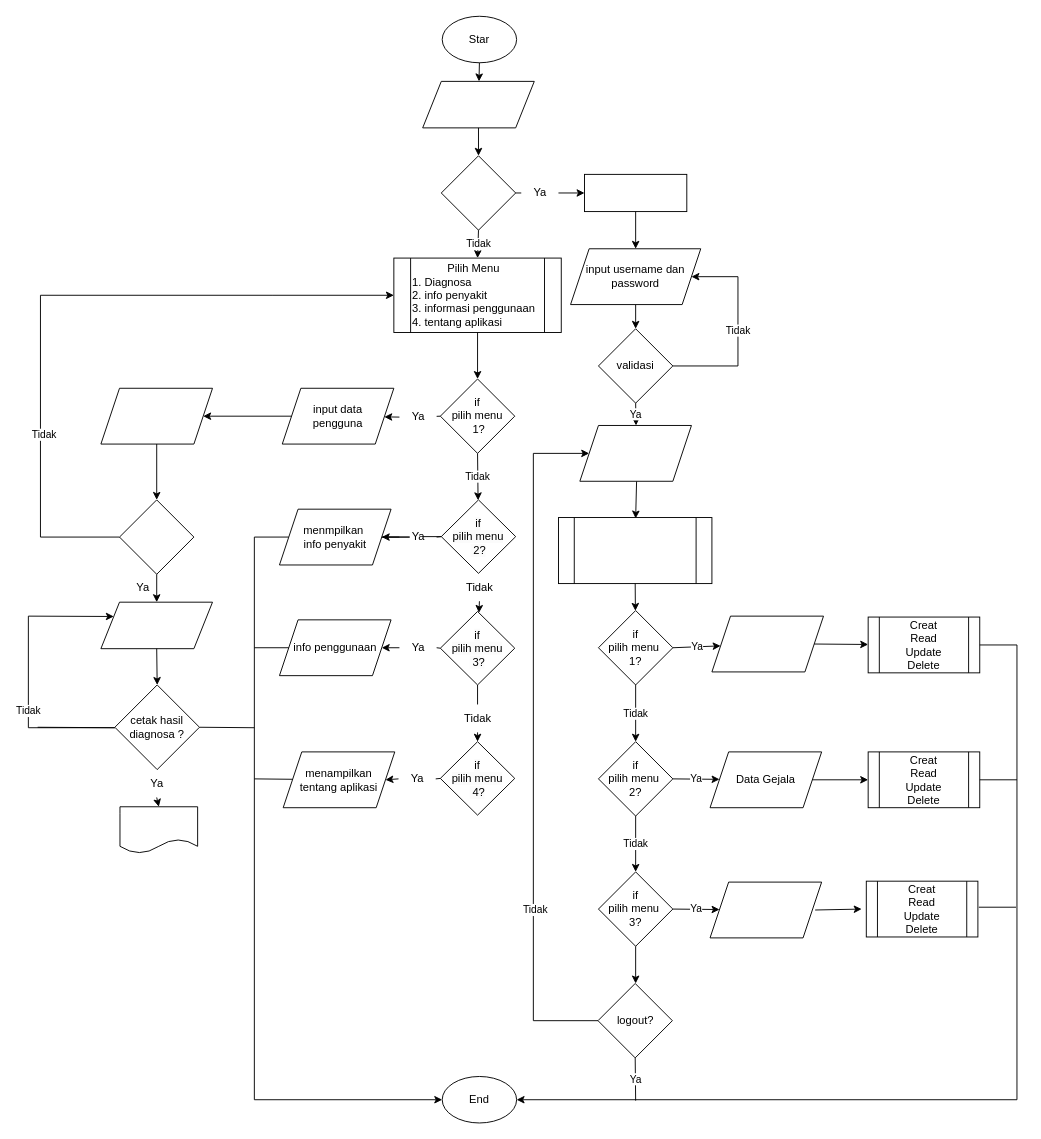
Some shapes in this 1041 by 1139 pixel diagram are drawn without their labels. The centre of each missing label's shape, as x and y in pixels:
"Dasboard admin" goes at pixel 635 453.
"Data penyakit" goes at pixel 767 643.
"Data rule/ aturan" goes at pixel 765 909.
"Dokumen" goes at pixel 158 829.
"halaman utama pengguna" goes at pixel 478 104.
"IF Admin?" goes at pixel 478 192.
"Login" goes at pixel 635 192.
"Menampikan Hasil gejala" goes at pixel 156 625.
"pilih gejala ?" goes at pixel 156 536.
"pilih menu 1. Kelola data penyakit 2. kelola data gejala 3. kelola rule/aturan" goes at pixel 635 550.
"tampil data gejala" goes at pixel 156 415.
